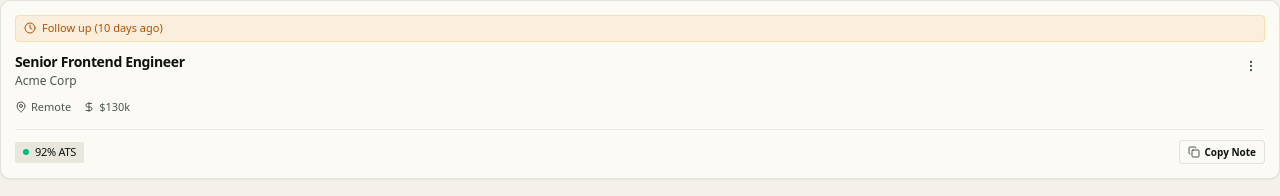
Scenario: Kanban Tracker UI Components (AC-1, AC-2, AC-4, AC-6, AC-7, AC-8, AC-9, AC-10) › KanbanCard (AC-6, AC-8) › copies outreach connection note on one-click copy button (AC-6)
Click the button with test id "copy-outreach-app_1": (1222, 152) [1179, 140, 1265, 164]
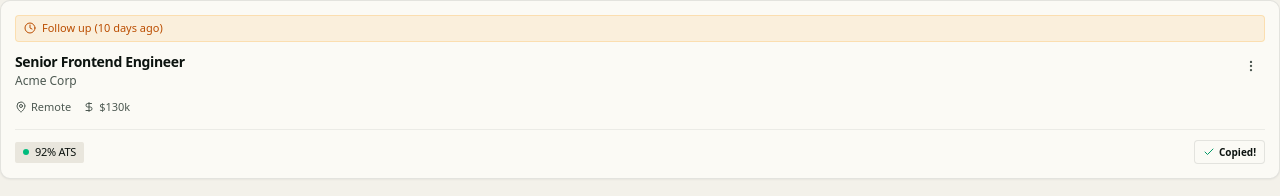
Expected: the text "Copied!" is shown, [1219, 145, 1256, 160]
